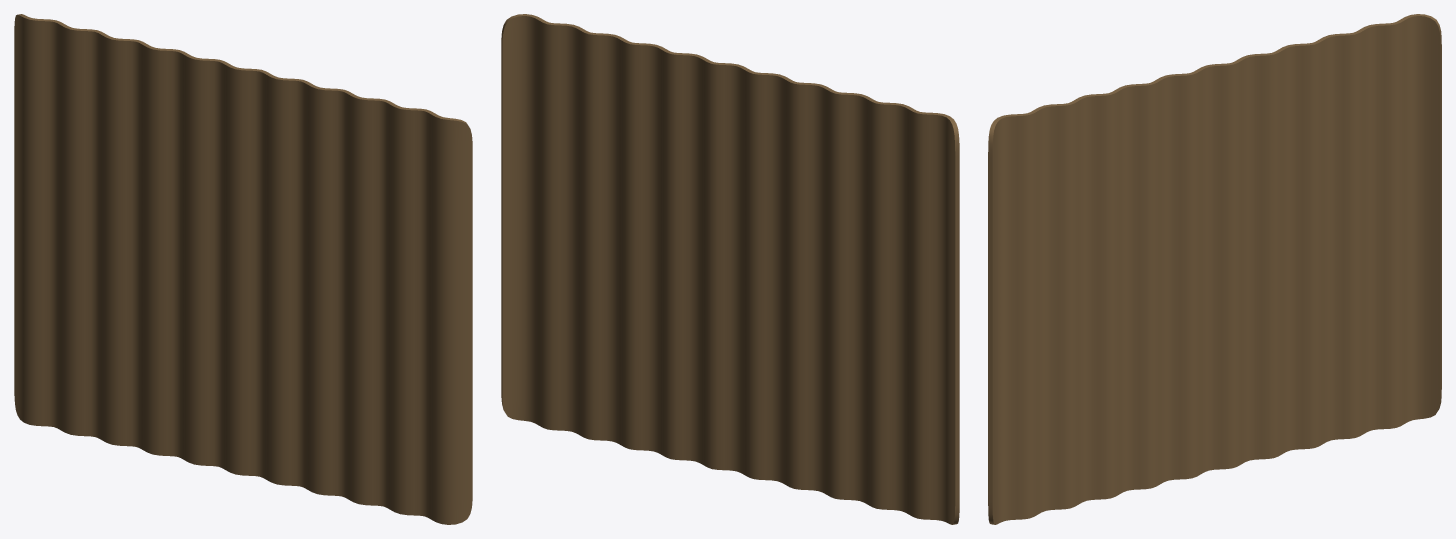
Rendered from door 2.1.fbx.
3 views of the same model, side by side, from view 1: azimuth 30°, elevation 25°; view 2: azimuth 210°, elevation 25°; view 3: azimuth 270°, elevation 25° (orthographic).
Visible parts, largest first — view 1: corrugated door.001; view 2: corrugated door.001; view 3: corrugated door.001.
Boxes of the visible parts, x1,y1,x2,y2 form: corrugated door.001: [14, 14, 472, 524]; corrugated door.001: [501, 14, 959, 524]; corrugated door.001: [988, 14, 1441, 524].
Size of the model in its own units: 2.36 by 3.89 by 3.96.
